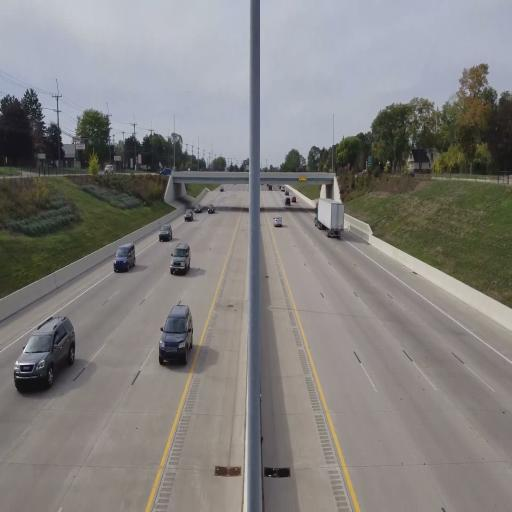Car: (13, 314, 76, 392), (158, 302, 194, 366), (113, 243, 136, 273), (170, 243, 191, 275), (159, 224, 172, 242), (184, 209, 194, 222), (273, 215, 283, 227)
Truck: (314, 183, 345, 238)
